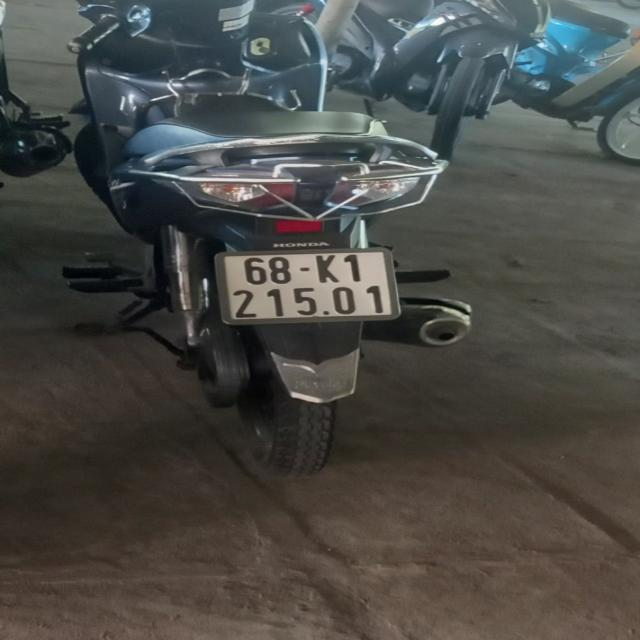0: (332, 287, 356, 314)
1: (366, 286, 384, 314), (344, 254, 361, 282), (268, 288, 284, 317)
2: (232, 290, 256, 318)
5: (292, 287, 318, 316)
6: (244, 257, 266, 285)
8: (266, 256, 292, 284)
K: (316, 255, 339, 282)
